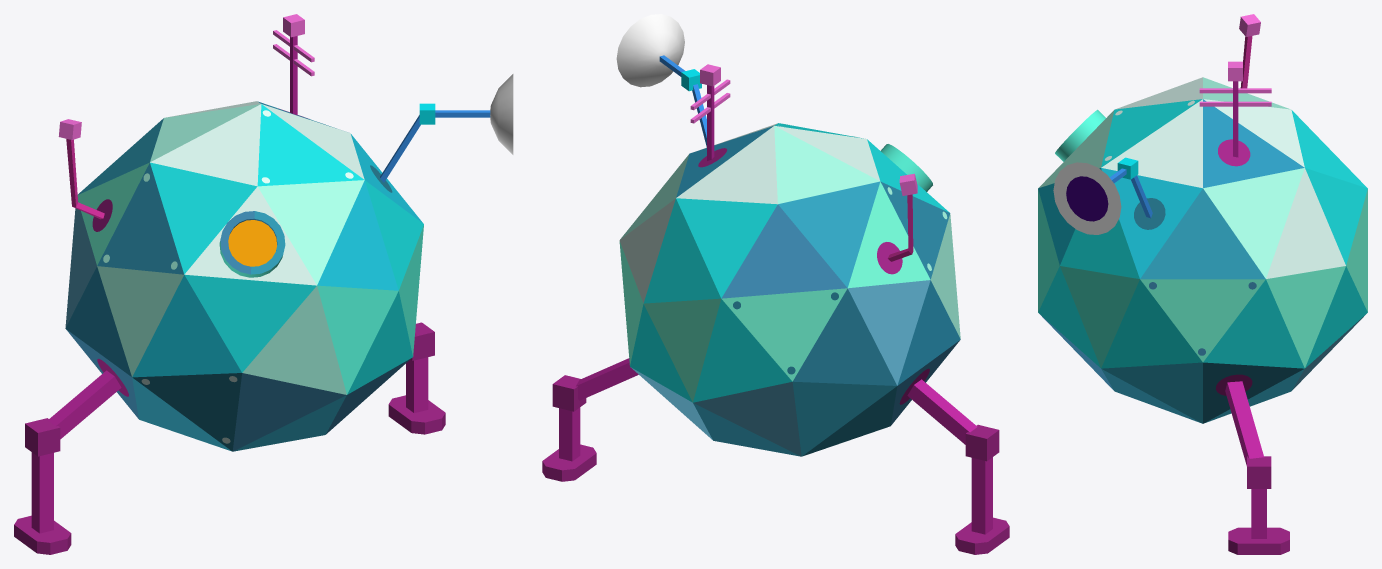
The model's file is Building_019_a.fbx.
The picture shows the model from 3 angles, left to right: view 1: azimuth 30°, elevation 25°; view 2: azimuth 150°, elevation 25°; view 3: azimuth 270°, elevation 25°; orthographic projection. The views are drawn at different scales.
Visible parts, largest first — view 1: Building_019_a; view 2: Building_019_a; view 3: Building_019_a.
Part boxes in pixels (<box>): Building_019_a: <box>14,14,513,554</box>; Building_019_a: <box>542,14,1009,554</box>; Building_019_a: <box>1038,14,1367,554</box>.
Bounding box in the file's own units: 18.34 × 17.5 × 12.46.
